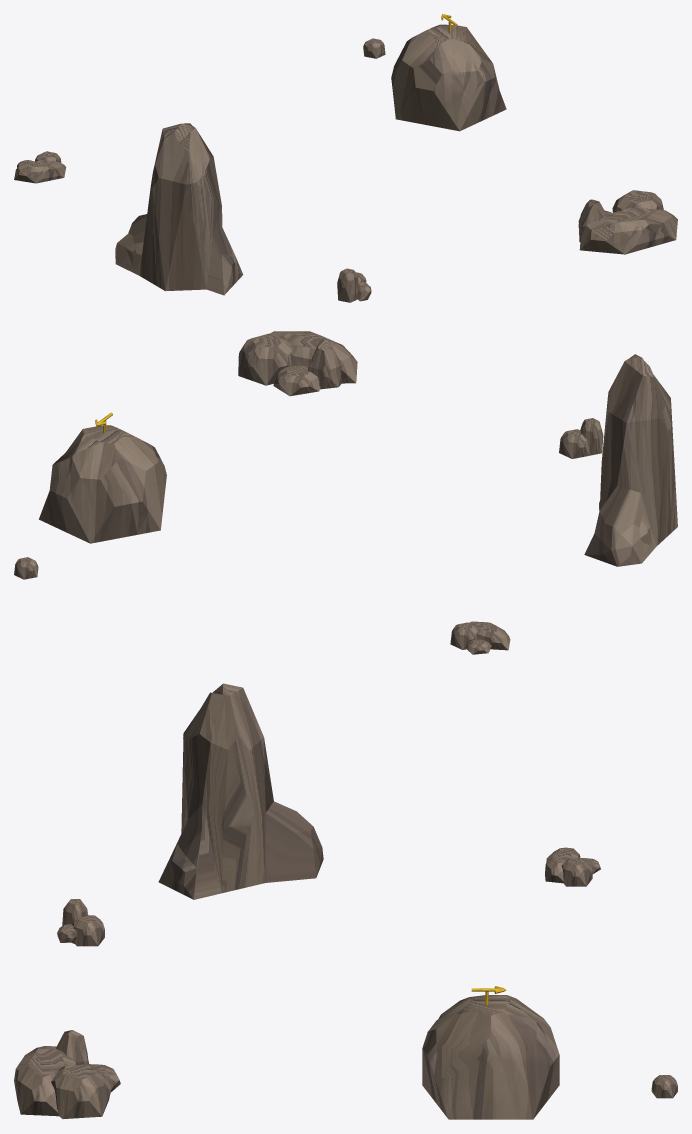
Rendered from rocks.glb.
3 renders of one model, top to bottom at view 1: azimuth 30°, elevation 25°; view 2: azimuth 150°, elevation 25°; view 3: azimuth 270°, elevation 25°, orthographic. The views are drawn at different scales.
Parts seen in each view (by area): view 1: Rock C, Rock A (Patricio), Rock C.001, Rock D, Rock B.002; view 2: Rock C, Rock A (Patricio), Rock C.001, Rock D, Rock B.002; view 3: Rock C, Rock A (Patricio), Rock C.001, Rock B.002, Rock D.
Boxes of the visible parts, x1,y1,x2,y2 form: Rock C: (115, 123, 243, 295); Rock A (Patricio): (391, 24, 506, 131); Rock C.001: (578, 190, 677, 254); Rock D: (14, 151, 66, 183); Rock B.002: (337, 268, 371, 302); Rock C: (584, 354, 677, 566); Rock A (Patricio): (39, 425, 166, 543); Rock C.001: (238, 331, 357, 396); Rock D: (450, 621, 510, 654); Rock B.002: (559, 418, 603, 458); Rock C: (158, 683, 323, 899); Rock A (Patricio): (422, 995, 559, 1119); Rock C.001: (14, 1030, 120, 1118); Rock B.002: (57, 899, 104, 946); Rock D: (545, 847, 600, 886).
Bounding box in the file's own units: 56.61 × 18.65 × 59.14.
2 materials, 2 textured.
